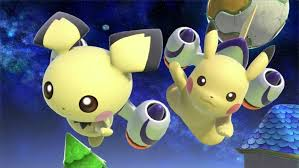pikachu: (164, 19, 276, 149)
